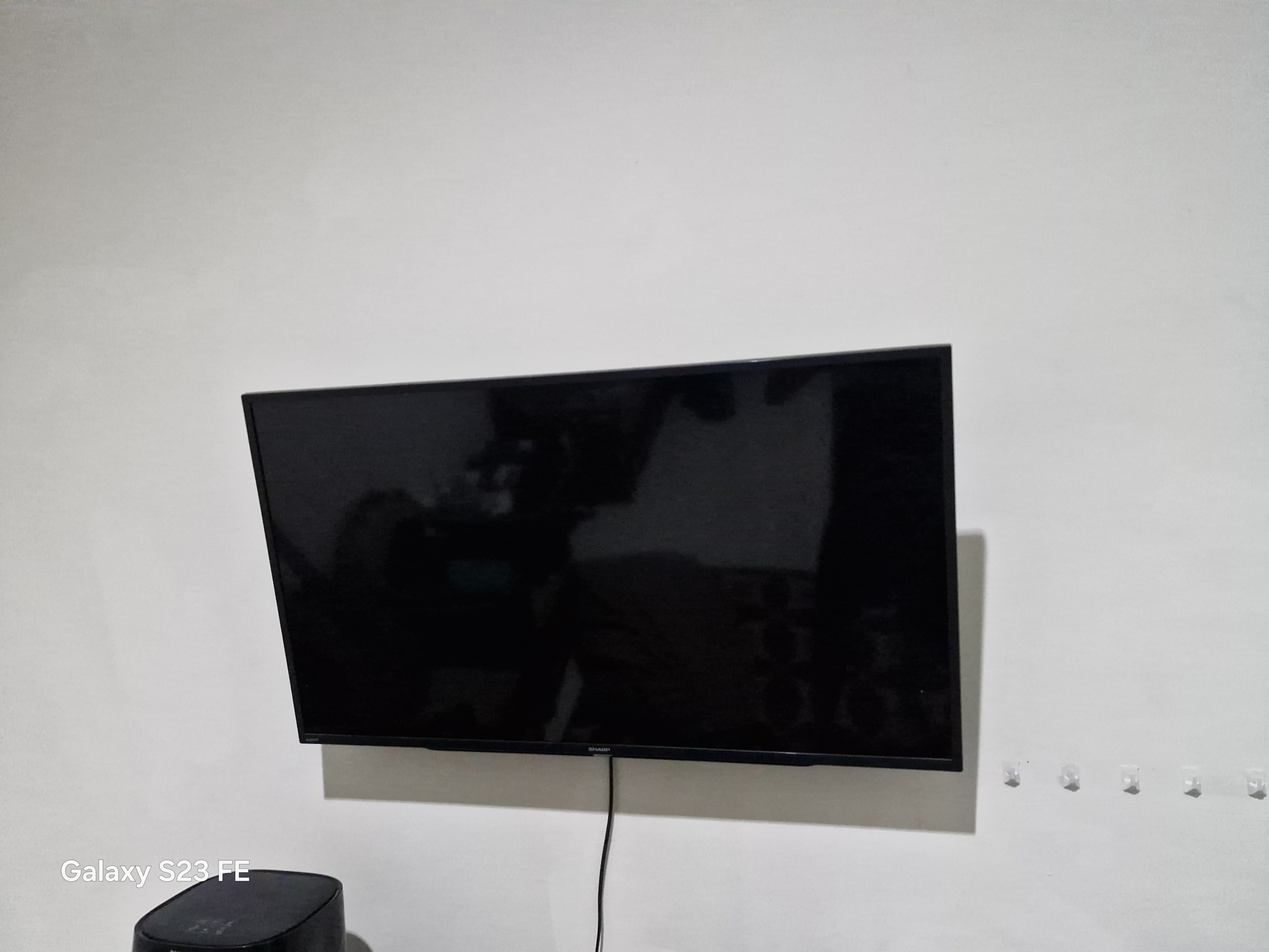tv: (243, 347, 962, 770)
wall-other-merged: (0, 0, 1268, 951)
